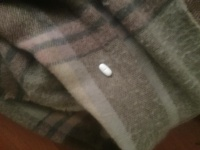Centik Buskopan: (97, 62, 113, 77)
